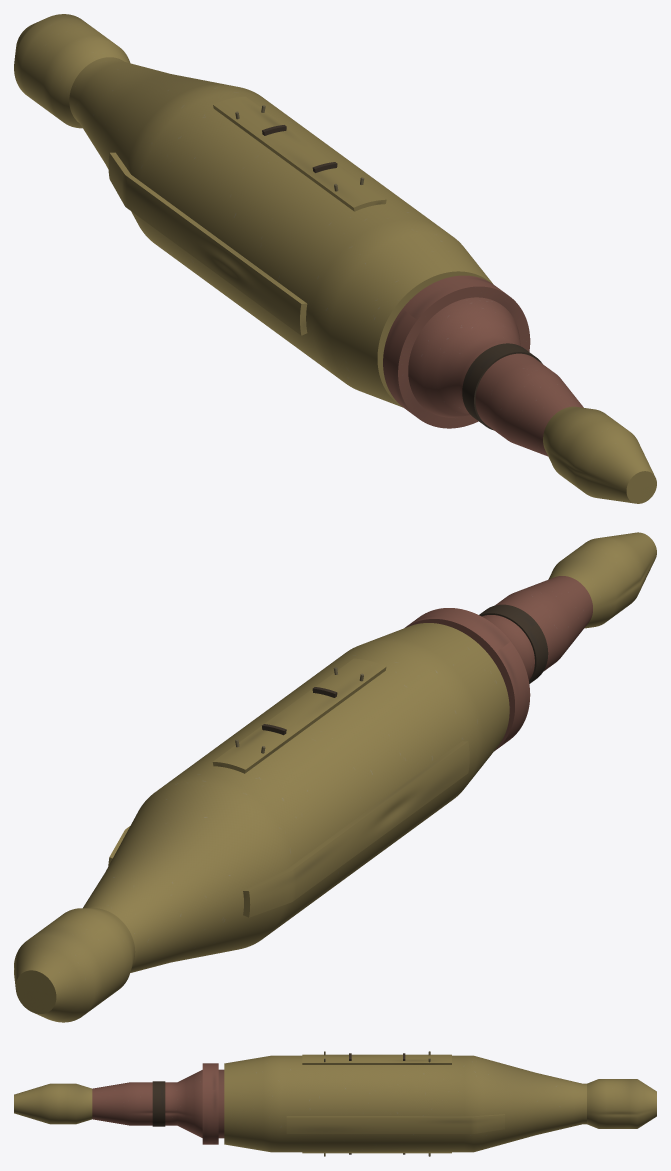
The picture shows the model from 3 angles, top to bottom: view 1: azimuth 30°, elevation 25°; view 2: azimuth 150°, elevation 25°; view 3: azimuth 270°, elevation 25°; orthographic projection. The views are drawn at different scales.
Visible parts, largest first — view 1: Braccatian Flaming Ruin axial waist, Braccatian Flaming Ruin copper neck, Braccatian Flaming Ruin forward gold end, Braccatian Flaming Ruin longitudinal casting 1, Braccatian Flaming Ruin rear gold end, Braccatian Flaming Ruin red coupling collar, Braccatian Flaming Ruin service cover 1, Braccatian Flaming Ruin dark neck band; view 2: Braccatian Flaming Ruin axial waist, Braccatian Flaming Ruin rear gold end, Braccatian Flaming Ruin longitudinal casting 1, Braccatian Flaming Ruin forward gold end, Braccatian Flaming Ruin copper neck, Braccatian Flaming Ruin service cover 1, Braccatian Flaming Ruin red coupling collar, Braccatian Flaming Ruin dark neck band; view 3: Braccatian Flaming Ruin axial waist, Braccatian Flaming Ruin copper neck, Braccatian Flaming Ruin longitudinal casting 0, Braccatian Flaming Ruin rear gold end, Braccatian Flaming Ruin forward gold end, Braccatian Flaming Ruin service cover 1, Braccatian Flaming Ruin red coupling collar, Braccatian Flaming Ruin dark neck band, Braccatian Flaming Ruin service cover 0.
Boxes of the visible parts, x1,y1,x2,y2 form: Braccatian Flaming Ruin axial waist: [69, 57, 492, 407]; Braccatian Flaming Ruin copper neck: [408, 297, 583, 456]; Braccatian Flaming Ruin forward gold end: [543, 406, 656, 503]; Braccatian Flaming Ruin longitudinal casting 1: [108, 152, 307, 335]; Braccatian Flaming Ruin rear gold end: [14, 14, 130, 128]; Braccatian Flaming Ruin red coupling collar: [383, 275, 530, 428]; Braccatian Flaming Ruin service cover 1: [213, 96, 386, 211]; Braccatian Flaming Ruin dark neck band: [462, 343, 542, 430]; Braccatian Flaming Ruin axial waist: [83, 623, 509, 972]; Braccatian Flaming Ruin rear gold end: [14, 908, 135, 1022]; Braccatian Flaming Ruin longitudinal casting 1: [243, 741, 469, 917]; Braccatian Flaming Ruin forward gold end: [548, 532, 656, 628]; Braccatian Flaming Ruin copper neck: [482, 576, 592, 680]; Braccatian Flaming Ruin service cover 1: [212, 658, 386, 773]; Braccatian Flaming Ruin red coupling collar: [405, 608, 530, 751]; Braccatian Flaming Ruin dark neck band: [479, 604, 548, 683]; Braccatian Flaming Ruin axial waist: [224, 1055, 586, 1152]; Braccatian Flaming Ruin copper neck: [92, 1069, 224, 1138]; Braccatian Flaming Ruin longitudinal casting 0: [286, 1114, 504, 1133]; Braccatian Flaming Ruin rear gold end: [587, 1079, 656, 1128]; Braccatian Flaming Ruin forward gold end: [14, 1083, 92, 1124]; Braccatian Flaming Ruin service cover 1: [302, 1054, 451, 1064]; Braccatian Flaming Ruin red coupling collar: [202, 1063, 218, 1144]; Braccatian Flaming Ruin dark neck band: [152, 1081, 165, 1126]; Braccatian Flaming Ruin service cover 0: [302, 1152, 451, 1153].
Bounding box in the file's own units: 0.334 × 0.3467 × 2.06.
4 materials, 3 textured.
